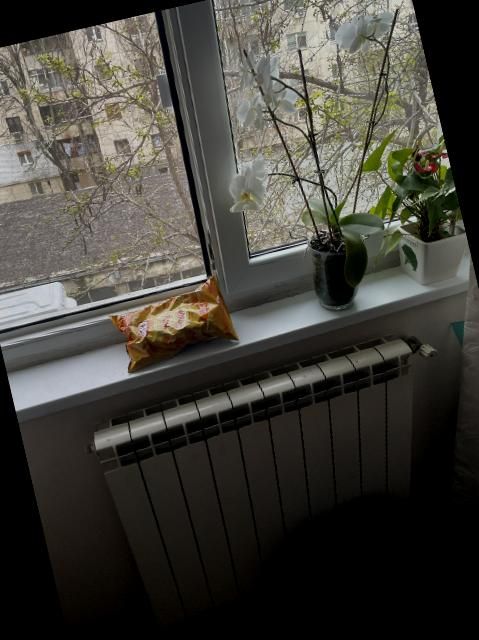Chio Hula Hoops Cheese 70g: (104, 274, 238, 372)
